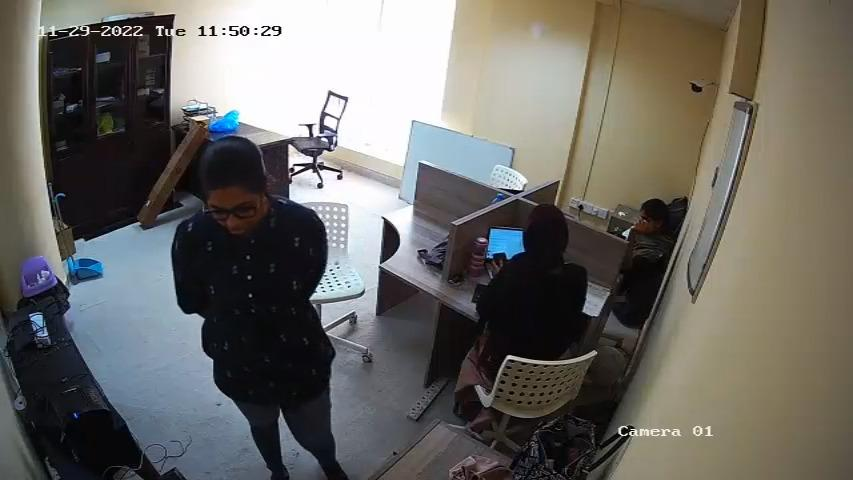no_apron: (211, 239, 310, 390)
